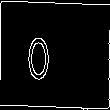O_N: (44, 28, 66, 82)
